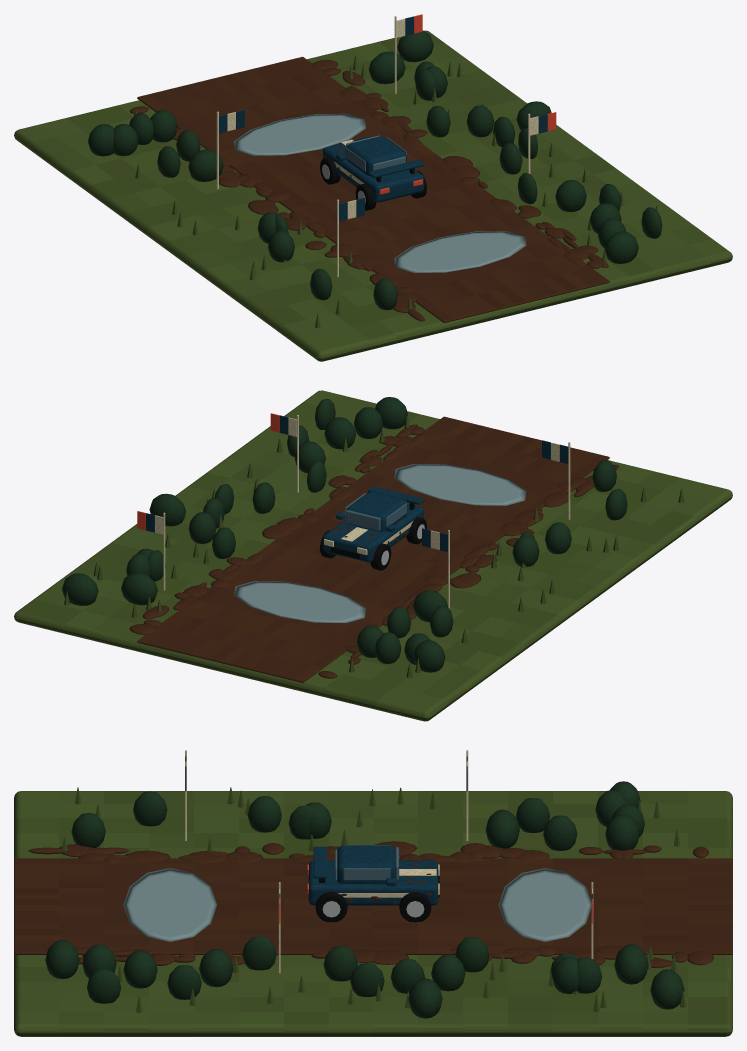
File: clay-roadside.glb
The picture shows the model from 3 angles, top to bottom: view 1: azimuth 30°, elevation 25°; view 2: azimuth 150°, elevation 25°; view 3: azimuth 270°, elevation 25°; orthographic projection. The views are drawn at different scales.
Visible parts, largest first — view 1: Roadside diorama, Muddy road, Rounded shrub, Shallow puddle, Rounded body, Flag pole, International flag stripe, Windscreen; view 2: Roadside diorama, Muddy road, Rounded shrub, Shallow puddle, Rounded body, Flag pole, International flag stripe, Windscreen; view 3: Roadside diorama, Muddy road, Rounded shrub, Shallow puddle, Rounded body, Flag pole, Windscreen, Door strip, Rounded tyre.002, Rounded tyre.003.
Part boxes in pixels (<box>): Roadside diorama: <box>14,30,732,361</box>; Muddy road: <box>129,56,609,322</box>; Rounded shrub: <box>88,30,662,310</box>; Shallow puddle: <box>234,113,526,272</box>; Rounded body: <box>323,136,424,202</box>; Flag pole: <box>216,16,538,277</box>; International flag stripe: <box>219,16,547,221</box>; Windscreen: <box>345,135,406,171</box>; Roadside diorama: <box>14,390,732,721</box>; Muddy road: <box>129,416,618,682</box>; Rounded shrub: <box>62,397,627,672</box>; Shallow puddle: <box>234,464,526,622</box>; Rounded body: <box>323,486,424,562</box>; Flag pole: <box>155,415,570,607</box>; International flag stripe: <box>146,415,568,551</box>; Windscreen: <box>345,493,406,530</box>; Roadside diorama: <box>14,787,732,1036</box>; Muddy road: <box>14,841,732,967</box>; Rounded shrub: <box>45,781,684,1018</box>; Shallow puddle: <box>123,868,591,941</box>; Rounded body: <box>308,845,438,905</box>; Flag pole: <box>185,750,593,973</box>; Windscreen: <box>335,845,398,880</box>; Door strip: <box>338,864,439,897</box>; Rounded tyre.002: <box>315,892,347,922</box>; Rounded tyre.003: <box>399,892,431,922</box>.
Size of the model in its own units: 18 by 3.67 by 23.
10 materials, 6 textured.
